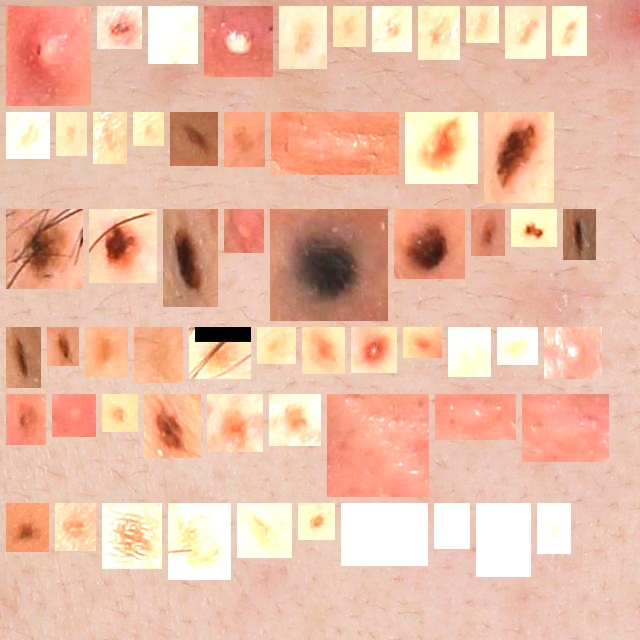hypertrophic_scar: (335, 402, 421, 489), (279, 120, 391, 167), (530, 402, 601, 454), (443, 402, 508, 432), (156, 14, 190, 56)
melasma: (349, 511, 420, 558), (413, 120, 470, 176), (176, 511, 223, 572), (484, 511, 523, 569), (197, 335, 243, 371), (245, 511, 284, 550), (287, 14, 319, 61), (142, 335, 175, 375), (426, 14, 452, 52), (232, 120, 257, 159), (513, 14, 538, 51), (93, 335, 120, 369), (14, 120, 42, 151), (380, 14, 404, 44), (101, 120, 119, 156), (560, 14, 579, 48), (545, 511, 563, 546), (442, 511, 462, 541), (479, 217, 497, 248), (505, 335, 530, 357), (265, 335, 288, 356), (110, 402, 130, 424), (341, 14, 358, 39), (64, 120, 79, 148), (474, 14, 491, 35), (411, 335, 434, 350), (141, 120, 156, 138)
nevus: (278, 217, 380, 313), (492, 120, 546, 195), (14, 217, 75, 281), (171, 217, 210, 299), (97, 217, 149, 275), (402, 217, 457, 271), (110, 511, 154, 561), (152, 402, 193, 450), (215, 402, 255, 444), (277, 402, 313, 438), (178, 120, 210, 158), (359, 335, 389, 365), (14, 511, 41, 544), (14, 335, 33, 380), (14, 402, 38, 437), (63, 511, 88, 543), (105, 14, 134, 41), (519, 217, 549, 239), (571, 217, 588, 252), (306, 511, 327, 532), (55, 335, 71, 358)
pustule: (14, 14, 83, 98), (212, 14, 265, 69), (552, 335, 594, 371), (456, 335, 483, 369), (60, 402, 88, 429), (232, 217, 256, 245)
